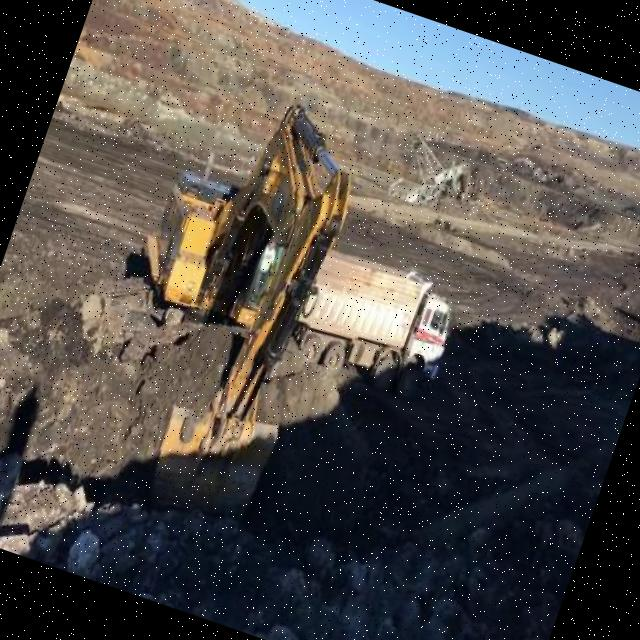Dump Truck: (281, 240, 465, 399)
Excavator: (64, 68, 382, 530)
